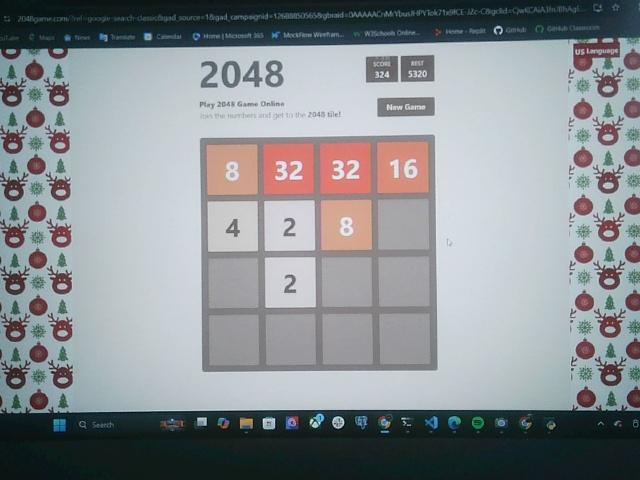board: (202, 138, 436, 371)
tile: (319, 142, 371, 195), (264, 200, 317, 251), (264, 257, 317, 308), (262, 145, 314, 196), (207, 202, 260, 252), (322, 198, 372, 251), (377, 143, 429, 193), (207, 145, 257, 196)
